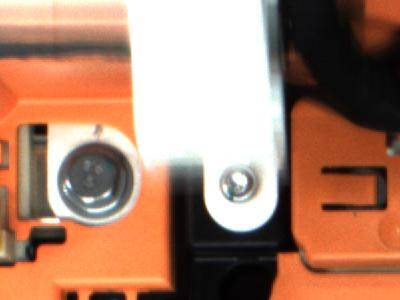nut_b: (52, 141, 137, 219)
